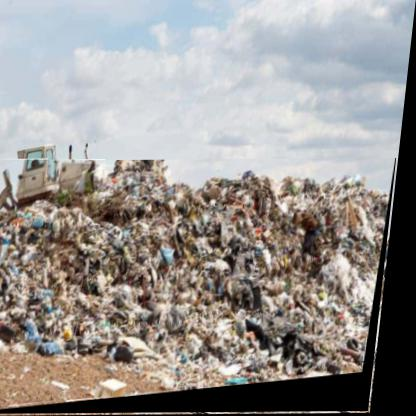Garbage: (1, 160, 402, 416)
